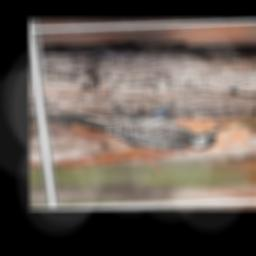Woodpecker: (45, 91, 233, 162)
